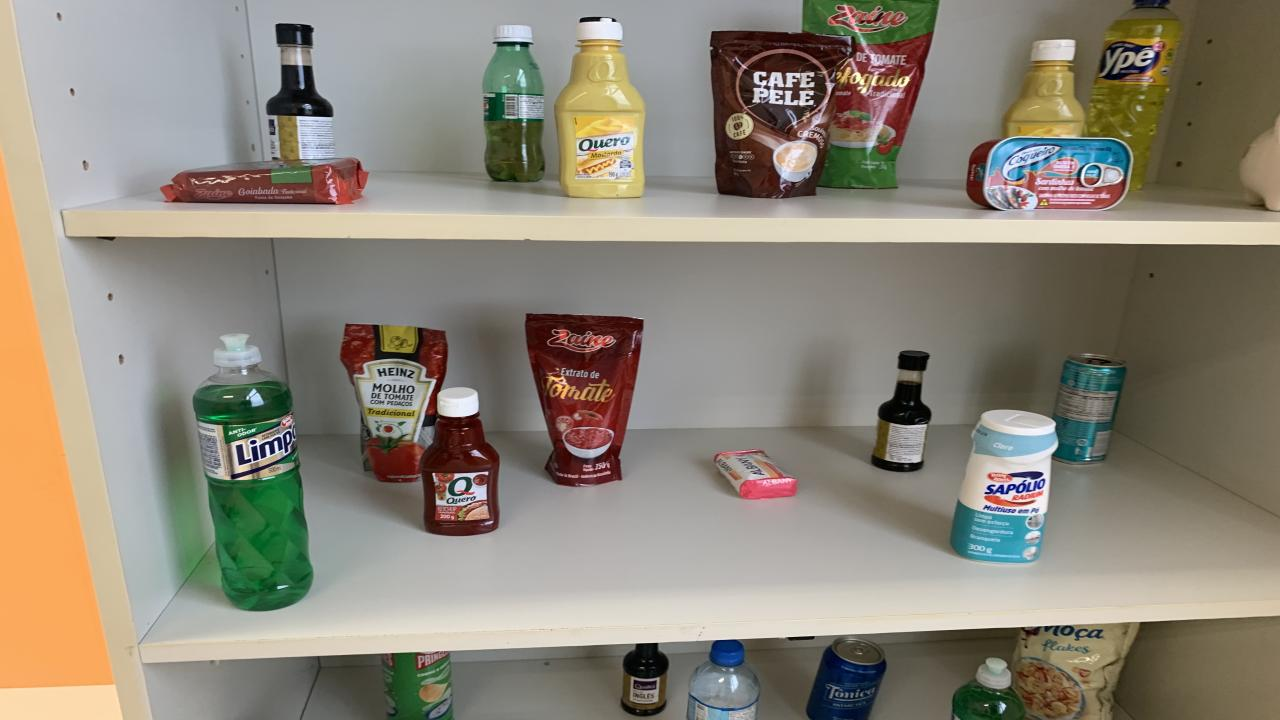Cleaner-Cleanup_Items: (950, 412, 1058, 564)
Coffee-Pantry_Items: (710, 30, 855, 199)
Detergent-Cleanup_Items: (192, 334, 312, 611), (1082, 0, 1182, 189), (952, 658, 1025, 720)
English_Sauce-Pantry_Items: (268, 24, 335, 159), (870, 351, 930, 472), (622, 643, 670, 716)
Flakes-Snacks: (1010, 622, 1140, 720)
Guarana-Drinks: (482, 26, 545, 182)
Guava-Snacks: (162, 158, 368, 204)
Ketchup-Pantry_Items: (420, 386, 500, 536)
Mustard-Pantry_Items: (555, 17, 645, 197), (1002, 39, 1085, 137)
Pringles-Snacks: (382, 651, 452, 720)
Soap-Cleanup_Items: (715, 450, 798, 499)
Tea-Drinks: (1052, 354, 1128, 463)
Tomato_Sauce-Pantry_Items: (802, 0, 938, 188), (525, 313, 642, 486), (340, 324, 448, 482)
Tonic-Drinks: (805, 636, 888, 720)
Tuna_Can-Pantry_Items: (968, 137, 1132, 210)
Water_Bottle-Drinks: (688, 639, 760, 720)
